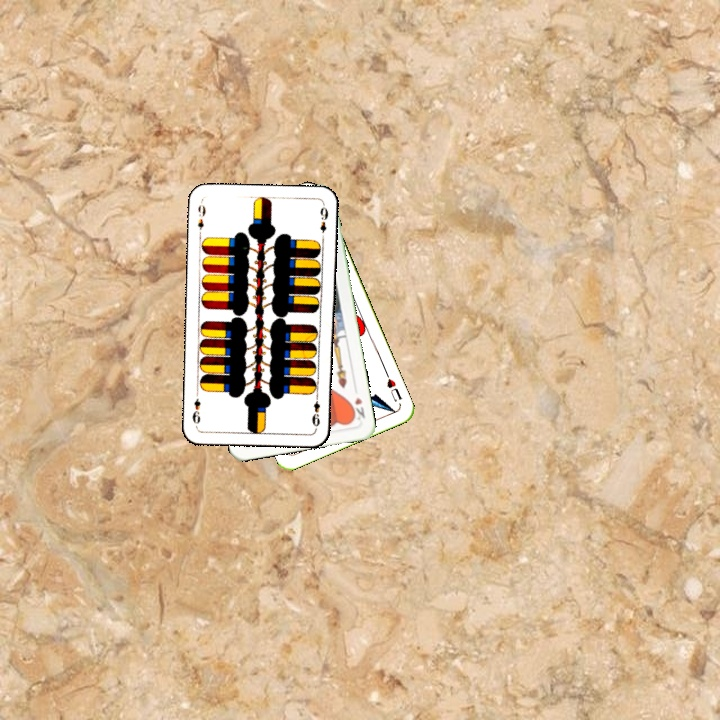E9: (308, 390, 323, 430), (194, 199, 208, 239)
HK: (347, 393, 368, 423)
HU: (383, 374, 404, 404)
